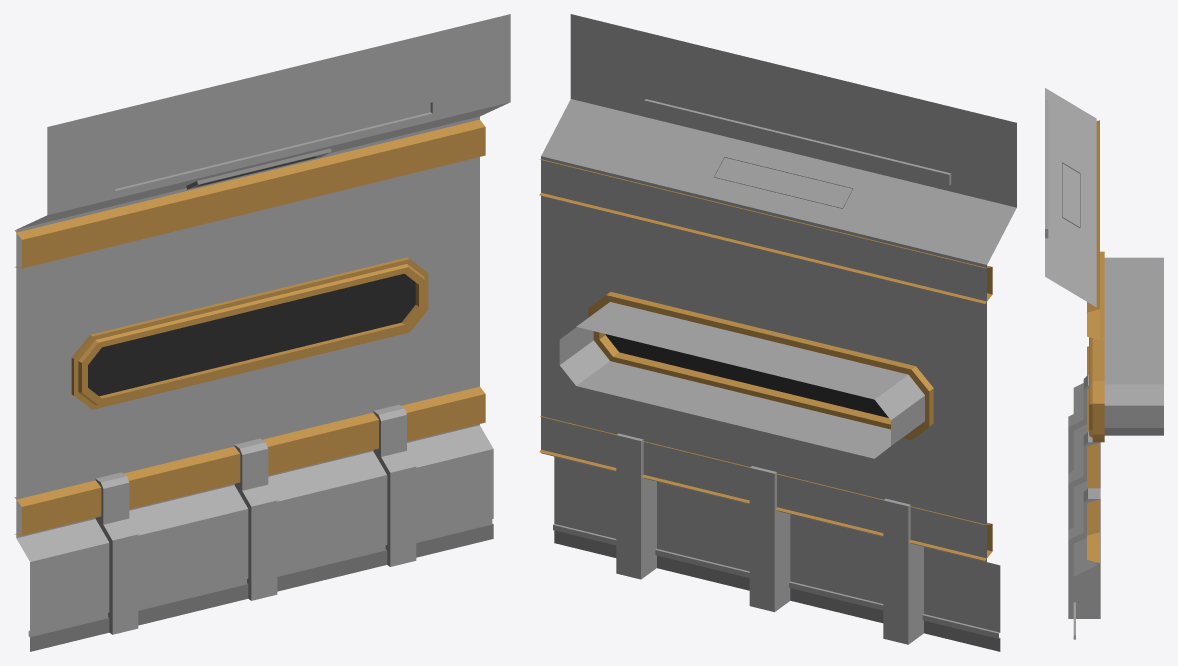
The model's file is LongWindow_Wall_SideA.fbx.
The picture shows the model from 3 angles, left to right: view 1: azimuth 30°, elevation 25°; view 2: azimuth 150°, elevation 25°; view 3: azimuth 270°, elevation 25°; orthographic projection. The views are drawn at different scales.
Parts seen in each view (by area): view 1: LongWindow_Wall_SideA; view 2: LongWindow_Wall_SideA; view 3: LongWindow_Wall_SideA.
Boxes of the visible parts, x1,y1,x2,y2 form: LongWindow_Wall_SideA: [14, 14, 510, 651]; LongWindow_Wall_SideA: [539, 14, 1016, 651]; LongWindow_Wall_SideA: [1045, 88, 1163, 639].
Bounding box in the file's own units: 4 × 4.43 × 1.06.
